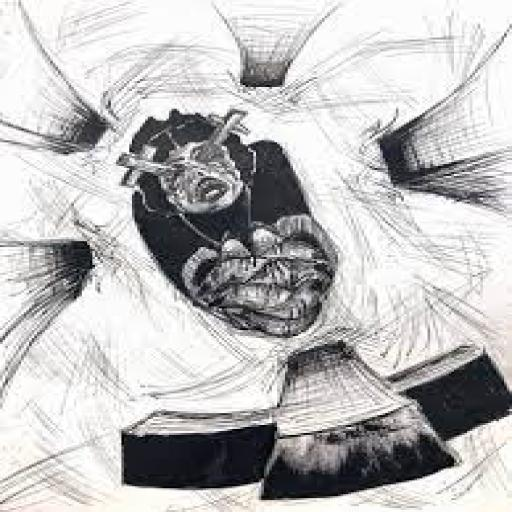person: (117, 104, 280, 226)
